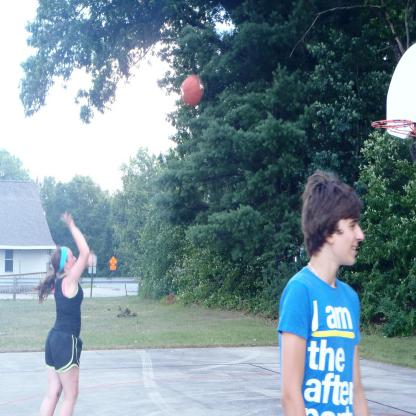Ball: (181, 76, 203, 104)
